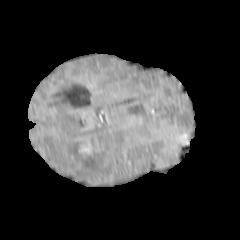glioma: (42, 108, 125, 180)
